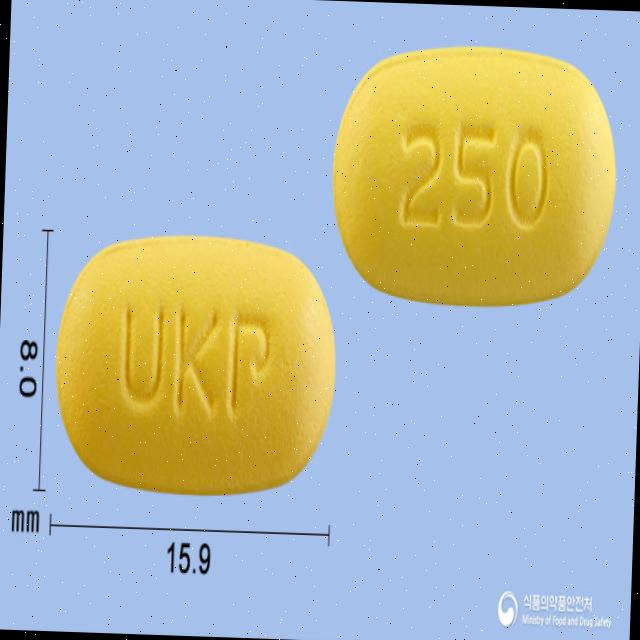Clazin - 500mg: (51, 224, 340, 500), (325, 42, 621, 310)
